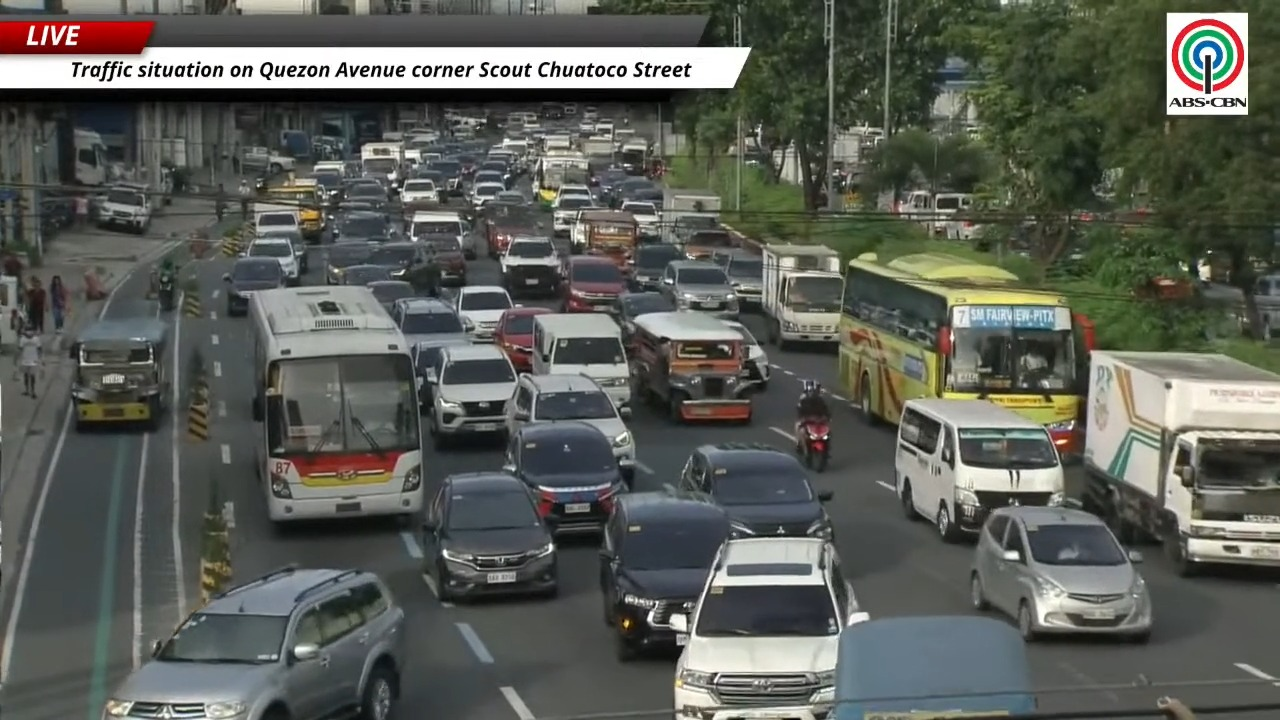bus: (837, 253, 1091, 453), (249, 286, 423, 522), (262, 178, 324, 243), (533, 151, 589, 207)
car: (104, 566, 404, 718), (669, 537, 868, 719), (970, 506, 1152, 642), (599, 492, 728, 661), (422, 472, 556, 601), (677, 443, 832, 539), (502, 423, 627, 534), (507, 373, 635, 481), (423, 344, 515, 449), (659, 260, 739, 319), (410, 335, 470, 411), (390, 297, 469, 345), (560, 255, 625, 312), (499, 236, 560, 296), (223, 257, 285, 316), (494, 307, 550, 371), (479, 203, 543, 258), (614, 292, 675, 349), (365, 242, 434, 292), (453, 285, 514, 341), (723, 320, 770, 390), (713, 250, 763, 308), (243, 236, 300, 285), (415, 234, 467, 286), (611, 184, 660, 237), (631, 243, 683, 291), (257, 228, 308, 274), (552, 189, 597, 236), (325, 241, 371, 283), (333, 210, 392, 241), (366, 280, 416, 312), (428, 158, 463, 196), (344, 178, 387, 208), (339, 263, 391, 285), (401, 178, 440, 205), (471, 182, 505, 206), (472, 167, 505, 188), (493, 190, 527, 206)
motorcycle: (796, 418, 829, 472), (156, 272, 175, 311)
truck: (1073, 351, 1279, 575), (827, 616, 1036, 719), (761, 243, 843, 348), (662, 187, 720, 243), (581, 137, 614, 157)
